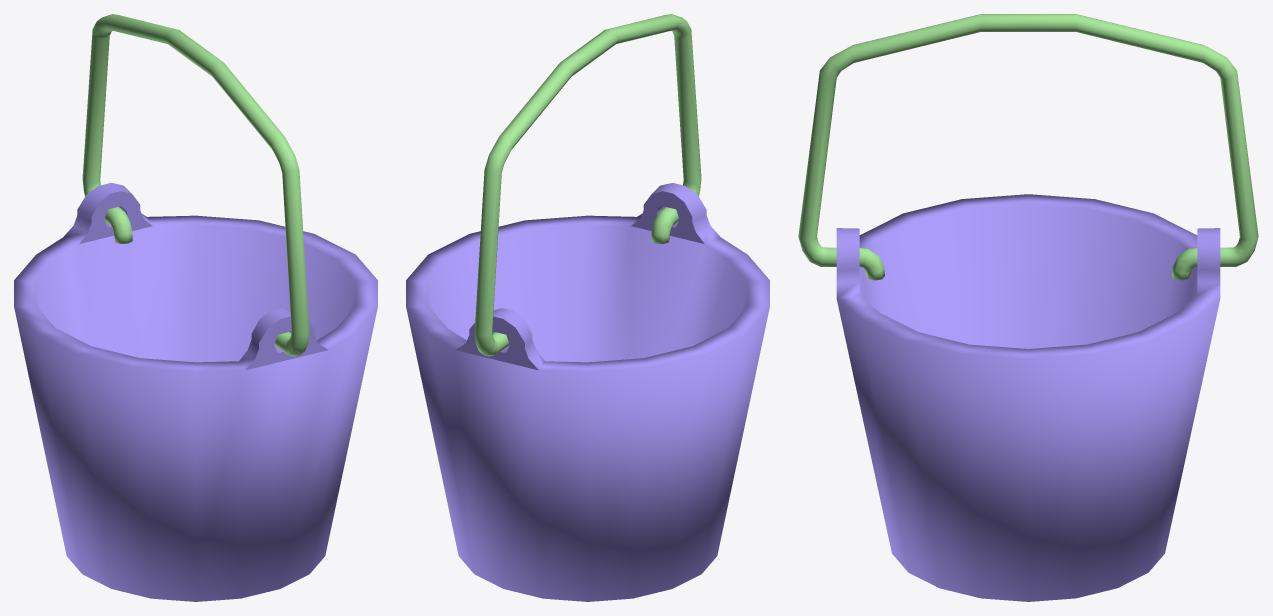
File: 3D_DityBucket_001.FBX
The picture shows the model from 3 angles, left to right: view 1: azimuth 30°, elevation 25°; view 2: azimuth 150°, elevation 25°; view 3: azimuth 270°, elevation 25°; orthographic projection. The views are drawn at different scales.
Visible parts, largest first — view 1: Bucket, BucketHandle; view 2: Bucket, BucketHandle; view 3: Bucket, BucketHandle.
Part boxes in pixels (left/top/right/bottom): Bucket: left=14, top=183, right=377, bottom=601; BucketHandle: left=82, top=14, right=309, bottom=356; Bucket: left=406, top=183, right=769, bottom=601; BucketHandle: left=474, top=14, right=701, bottom=356; Bucket: left=836, top=194, right=1220, bottom=601; BucketHandle: left=798, top=14, right=1258, bottom=280.
Size of the model in its own units: 23.46 by 35.11 by 27.69.
